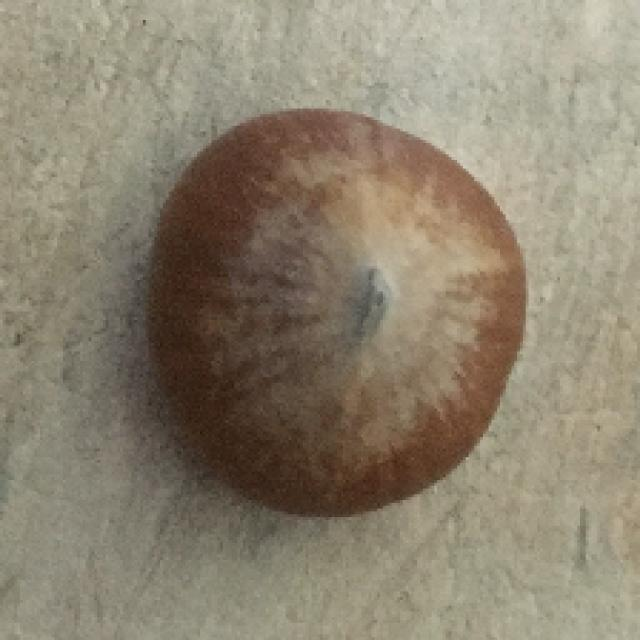qualityHazelnut: (138, 97, 524, 529)
